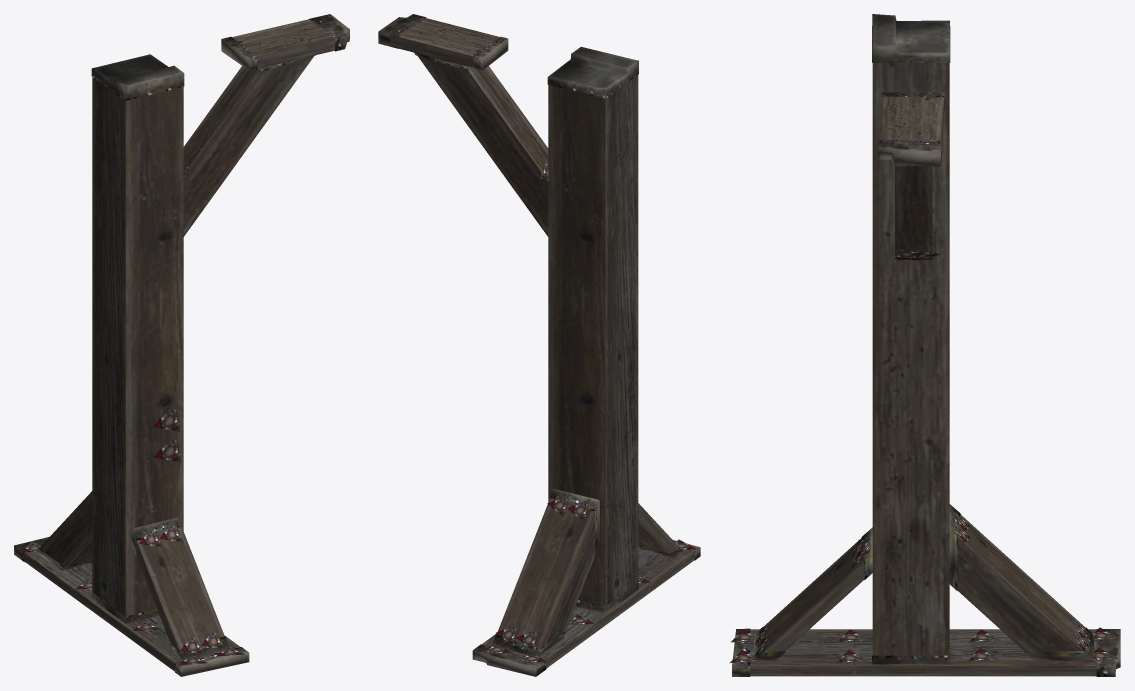
Rendered from improvised_walkway_support_wood_pole_200_b.glb.
3 renders of one model, left to right at view 1: azimuth 30°, elevation 25°; view 2: azimuth 150°, elevation 25°; view 3: azimuth 270°, elevation 25°, orthographic. The views are drawn at different scales.
Visible parts, largest first — view 1: improvised_walkway_support_wood_pole_200_b; view 2: improvised_walkway_support_wood_pole_200_b; view 3: improvised_walkway_support_wood_pole_200_b.
Boxes of the visible parts, x1,y1,x2,y2 form: improvised_walkway_support_wood_pole_200_b: (14, 14, 349, 676); improvised_walkway_support_wood_pole_200_b: (378, 14, 700, 676); improvised_walkway_support_wood_pole_200_b: (729, 14, 1120, 676).
Bounding box in the file's own units: 0.8304 × 1.8 × 1.02.
Materials: 1 (1 with a texture image).
